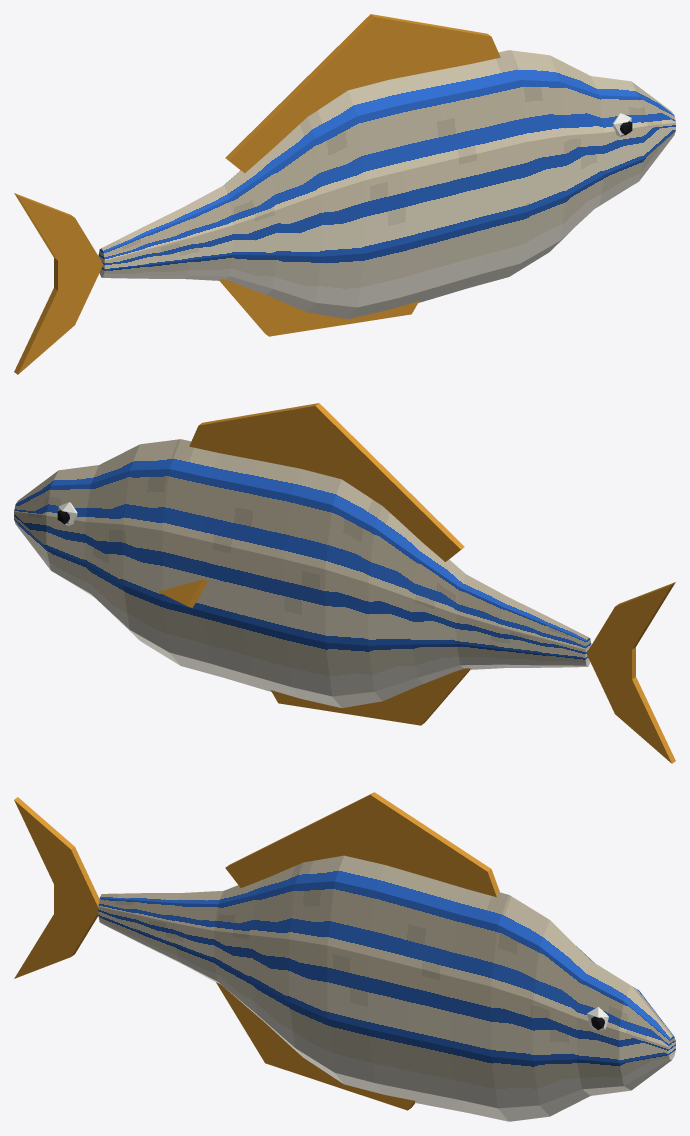
Rendered from picasso_triggerfish.glb.
The picture shows the model from 3 angles, top to bottom: view 1: azimuth 30°, elevation 25°; view 2: azimuth 150°, elevation 25°; view 3: azimuth 330°, elevation 25°; orthographic projection.
Visible parts, largest first — view 1: fish_picasso_triggerfish; view 2: fish_picasso_triggerfish; view 3: fish_picasso_triggerfish.
Part boxes in pixels (left/top/right/bottom): fish_picasso_triggerfish: left=14, top=14, right=675, bottom=374; fish_picasso_triggerfish: left=14, top=403, right=675, bottom=763; fish_picasso_triggerfish: left=14, top=792, right=675, bottom=1121.
Bounding box in the file's own units: 1.15 × 0.5132 × 0.1417.
Materials: 4 (1 with a texture image).
